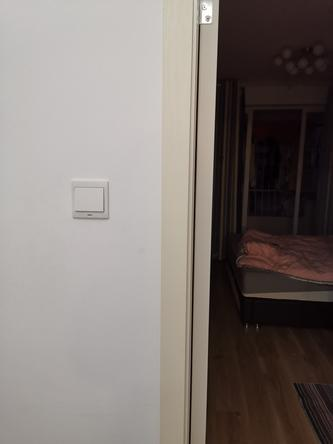switch: (71, 185, 108, 215)
